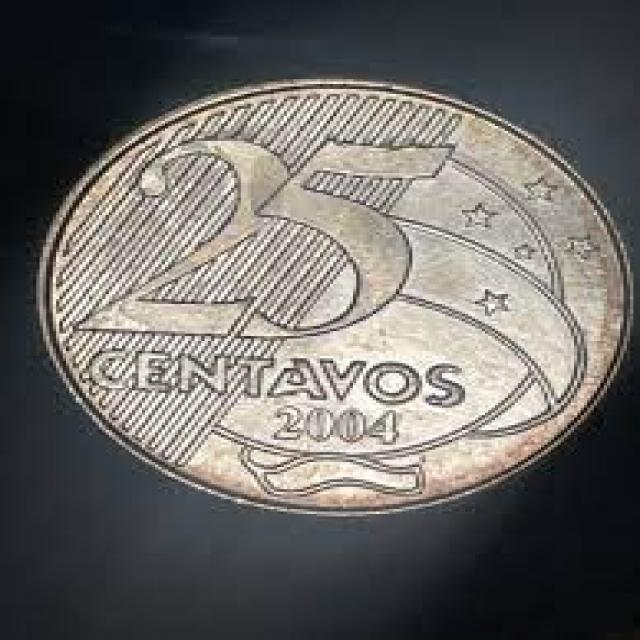25 cent: (35, 76, 635, 512)
